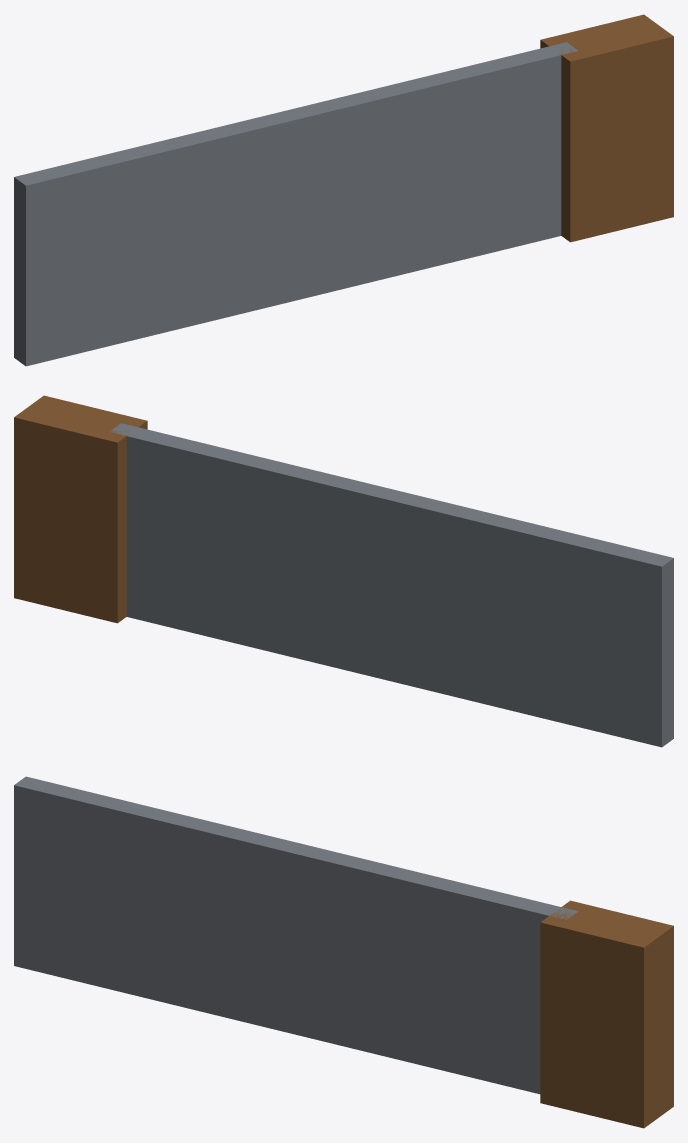
File: good_23.glb
3 renders of one model, top to bottom at view 1: azimuth 30°, elevation 25°; view 2: azimuth 150°, elevation 25°; view 3: azimuth 330°, elevation 25°, orthographic.
Parts seen in each view (by area): view 1: good_23; view 2: good_23; view 3: good_23.
Boxes of the visible parts, <box> form: good_23: <box>14,14,673,366</box>; good_23: <box>14,395,673,747</box>; good_23: <box>14,776,673,1128</box>.
Size of the model in its own units: 0.185 by 0.05 by 0.015.
